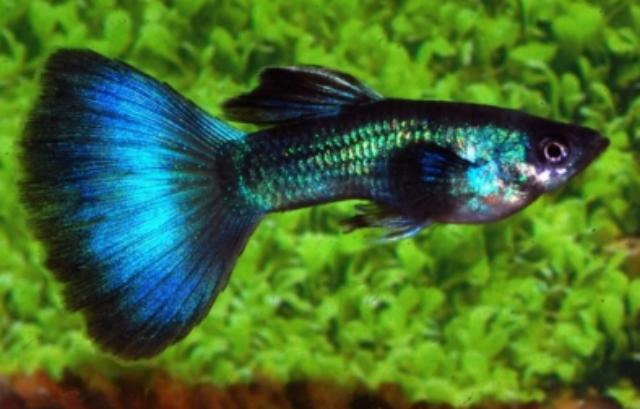Mulut: (554, 112, 628, 180)
Sirip Anal: (320, 192, 396, 238)
Sirip Dada: (374, 126, 476, 229)
Sirip Ekor: (7, 28, 283, 384)
Sirip Perut: (367, 212, 438, 256)
Sirip Punggung: (211, 50, 395, 136)
